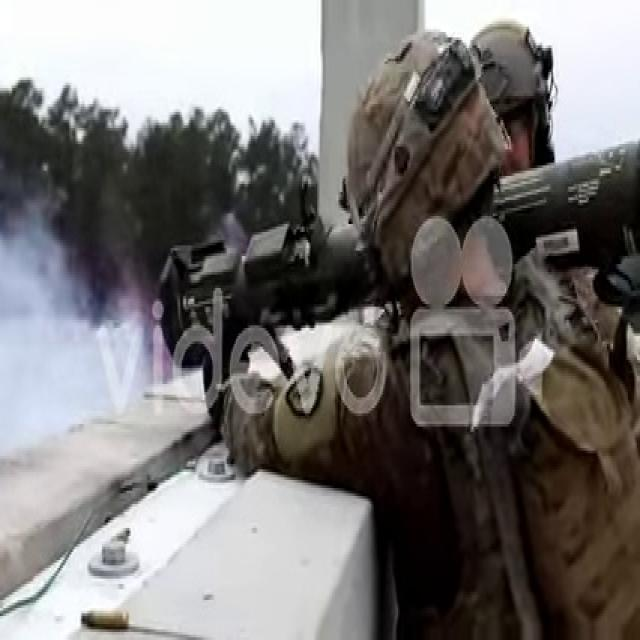bazooka: (156, 136, 640, 392)
